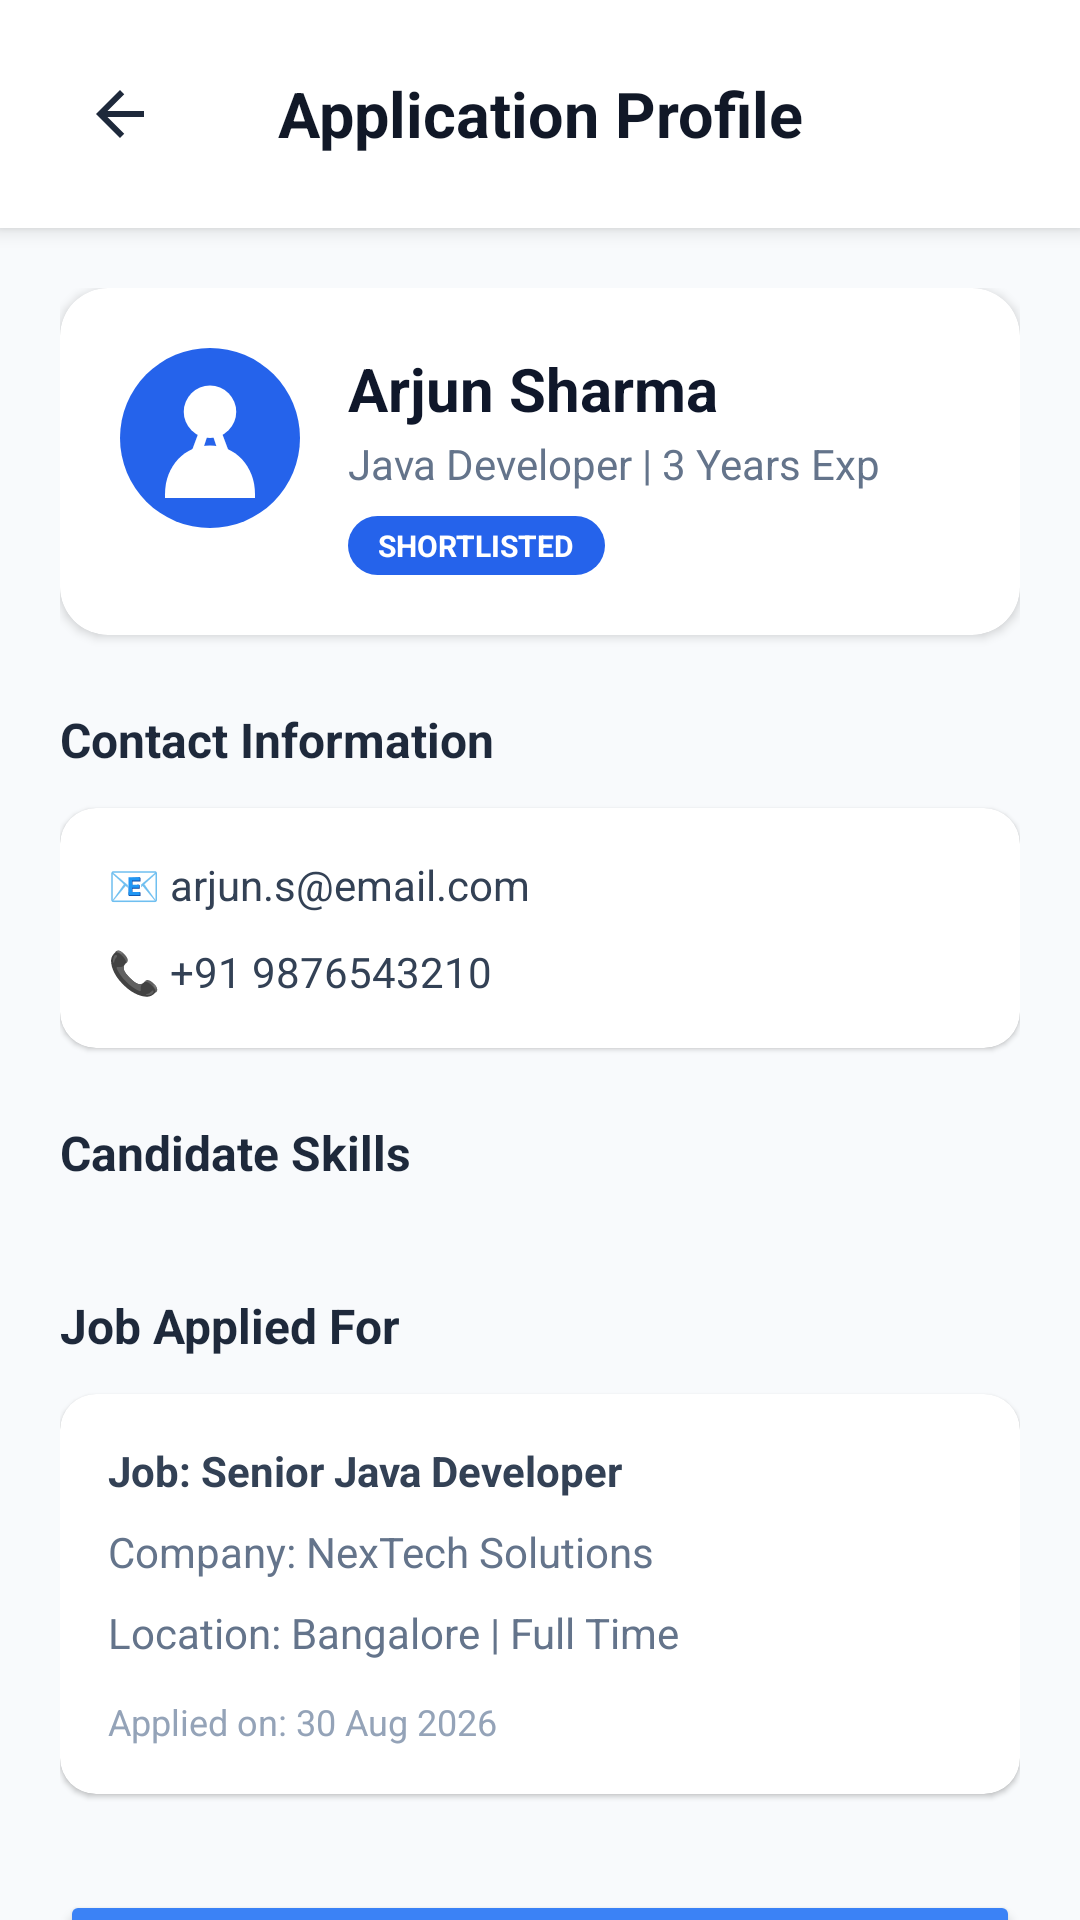

Icons on this 1080 × 1920 Android screen, each with the point to tap as [x,y]:
Back: [120,114]
